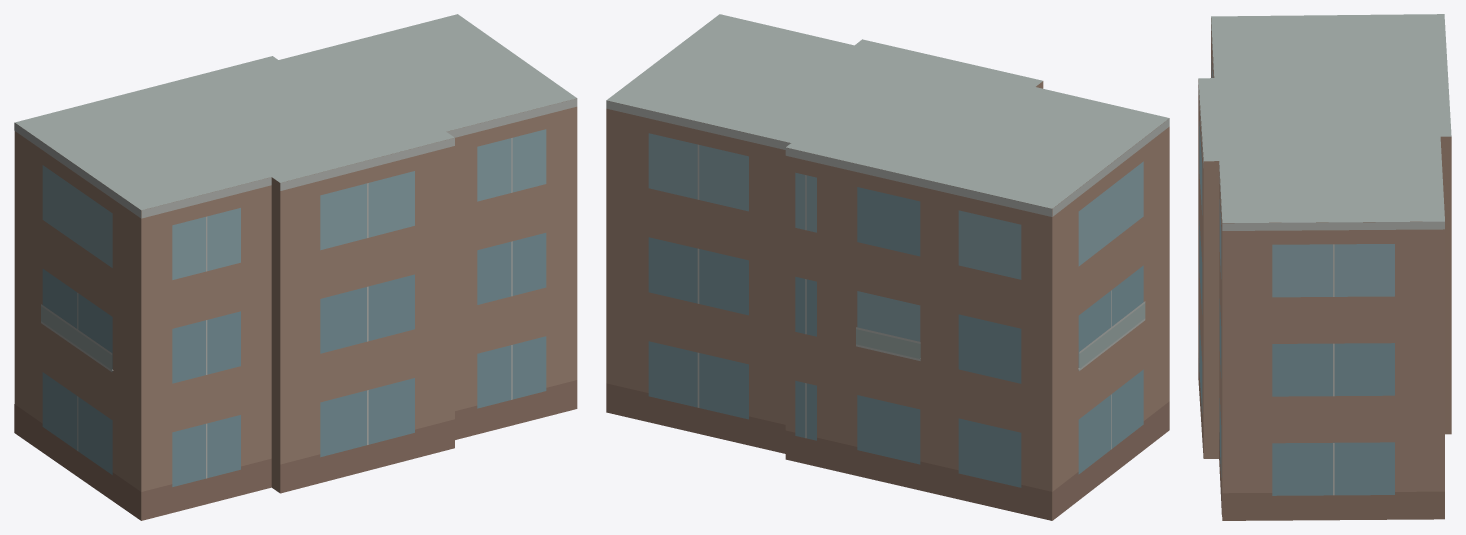
The model's file is survey-upis-32636783.glb.
3 views of the same model, side by side, from view 1: azimuth 30°, elevation 25°; view 2: azimuth 150°, elevation 25°; view 3: azimuth 270°, elevation 25° (orthographic). The views are drawn at different scales.
Visible parts, largest first — view 1: survey-upis-32636783.tmp; view 2: survey-upis-32636783.tmp; view 3: survey-upis-32636783.tmp.
Boxes of the visible parts, left/top/right/bottom form: survey-upis-32636783.tmp: left=14, top=14, right=577, bottom=520; survey-upis-32636783.tmp: left=606, top=14, right=1169, bottom=520; survey-upis-32636783.tmp: left=1198, top=14, right=1451, bottom=520.
Size of the model in its own units: 13.79 by 9.15 by 7.06.
